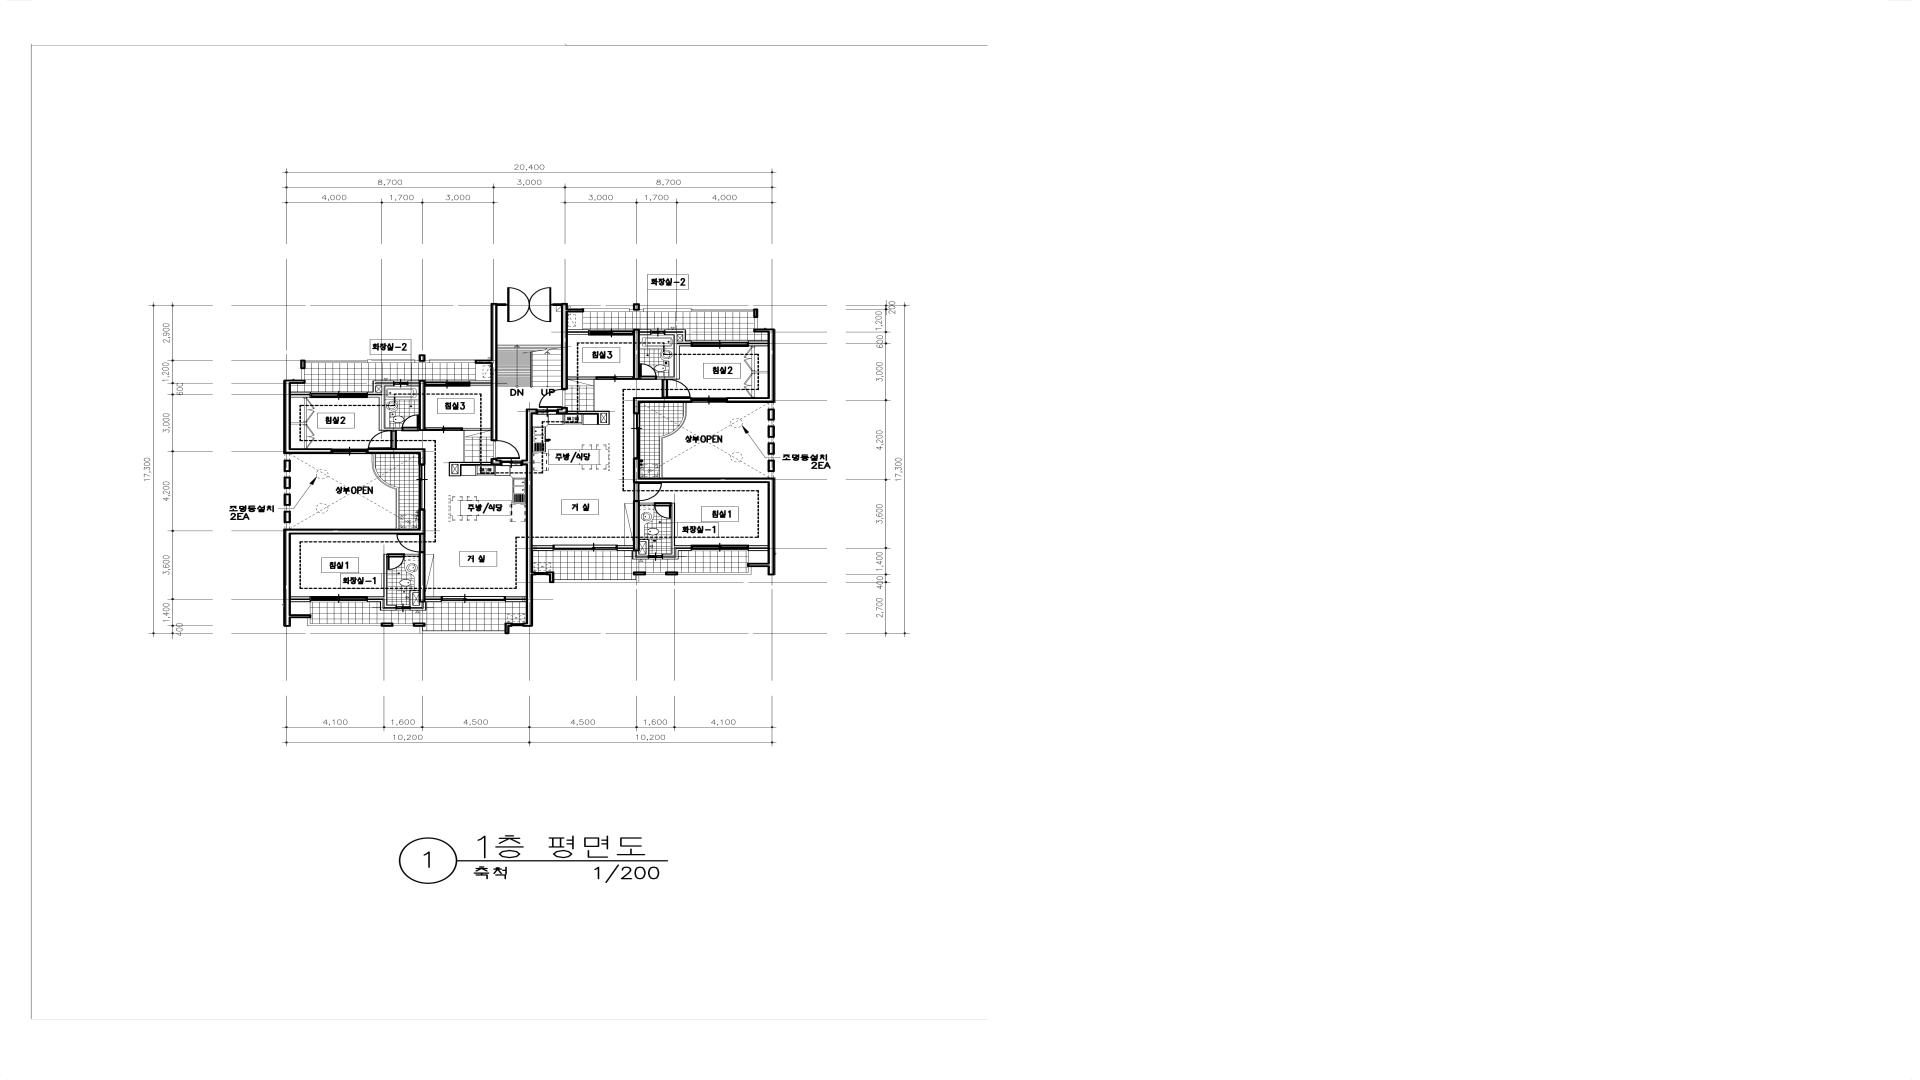background: (0, 0, 1920, 1080)
door: (497, 286, 562, 322), (662, 378, 691, 397), (493, 439, 520, 459), (368, 431, 397, 448), (397, 535, 426, 553), (633, 484, 662, 501), (539, 389, 566, 407), (401, 414, 419, 431), (640, 363, 657, 380), (386, 554, 405, 570), (596, 375, 633, 382), (654, 502, 671, 518), (426, 426, 463, 433)
wall: (522, 409, 537, 622), (491, 303, 497, 440), (633, 477, 767, 484), (291, 529, 419, 535), (284, 529, 291, 626), (767, 477, 775, 575), (560, 303, 568, 389), (284, 384, 291, 454), (767, 328, 775, 397), (418, 380, 426, 431), (418, 553, 426, 603), (633, 500, 640, 551), (633, 328, 640, 380), (641, 397, 691, 404), (368, 448, 418, 454), (728, 397, 775, 402), (671, 502, 675, 556), (291, 448, 331, 454), (418, 509, 426, 535), (381, 386, 385, 431), (568, 410, 609, 414), (633, 459, 641, 477), (384, 554, 386, 605), (418, 448, 426, 464), (633, 397, 641, 413), (674, 335, 676, 380), (448, 462, 491, 464), (505, 622, 513, 634), (546, 571, 554, 583), (284, 380, 306, 384), (506, 599, 526, 603), (291, 615, 311, 618), (748, 563, 767, 567), (556, 407, 568, 414), (291, 599, 310, 603), (568, 377, 596, 380), (463, 429, 491, 431), (491, 459, 501, 465), (426, 599, 442, 603), (568, 309, 584, 313), (475, 360, 491, 364), (385, 427, 401, 431), (676, 340, 691, 344), (753, 328, 767, 332), (533, 549, 554, 551), (665, 330, 686, 332), (568, 330, 588, 332), (413, 622, 426, 626), (633, 571, 646, 575), (665, 571, 678, 575), (633, 303, 640, 311), (418, 355, 426, 361), (471, 381, 491, 384), (749, 549, 767, 551), (749, 340, 767, 343), (301, 360, 306, 369), (753, 309, 758, 318), (291, 392, 310, 394), (368, 599, 380, 603), (381, 622, 393, 626), (448, 464, 452, 476), (657, 377, 674, 380), (376, 381, 393, 384), (376, 384, 393, 386), (410, 608, 426, 611), (617, 549, 633, 551), (663, 556, 679, 559), (522, 622, 533, 626), (380, 608, 396, 611), (410, 591, 413, 605), (646, 539, 649, 554), (640, 502, 654, 505), (629, 309, 644, 311), (458, 464, 462, 473), (380, 599, 384, 608), (636, 556, 649, 559), (678, 549, 691, 551), (415, 360, 429, 363), (368, 392, 381, 394), (405, 554, 418, 556), (632, 551, 636, 559), (675, 549, 679, 556), (607, 413, 609, 425), (640, 330, 651, 332), (665, 332, 676, 335), (640, 332, 651, 335), (384, 605, 396, 608), (373, 381, 376, 392), (407, 381, 418, 384), (410, 605, 419, 608), (640, 554, 649, 556), (663, 554, 673, 556), (683, 332, 686, 342), (452, 473, 462, 476), (636, 551, 640, 556), (599, 422, 607, 425), (599, 414, 601, 422), (640, 539, 646, 542), (676, 332, 683, 335), (419, 603, 422, 608), (413, 591, 418, 593), (423, 603, 426, 608), (533, 571, 535, 575)
window: (659, 404, 687, 438), (372, 454, 398, 489), (442, 593, 506, 603), (554, 542, 617, 551), (310, 593, 368, 603), (632, 413, 642, 459), (417, 464, 427, 509), (310, 392, 368, 400), (691, 543, 749, 551), (691, 340, 749, 348), (426, 380, 471, 389), (588, 328, 633, 338), (691, 396, 728, 405), (331, 447, 368, 455), (422, 630, 505, 633), (554, 580, 636, 583), (501, 459, 522, 468), (644, 309, 691, 313), (310, 624, 381, 626), (678, 572, 749, 575), (537, 407, 556, 417), (306, 360, 368, 363), (691, 309, 753, 311), (396, 488, 400, 529), (659, 436, 663, 477), (393, 378, 407, 388), (368, 360, 415, 363), (429, 360, 475, 363), (584, 309, 629, 311), (396, 604, 410, 612), (649, 553, 663, 560), (651, 328, 665, 336), (393, 624, 413, 626), (646, 572, 665, 575), (301, 369, 305, 380), (636, 575, 640, 583), (748, 567, 752, 575), (754, 318, 757, 328), (535, 572, 546, 575), (513, 624, 522, 626), (307, 618, 310, 626), (419, 626, 422, 633)
